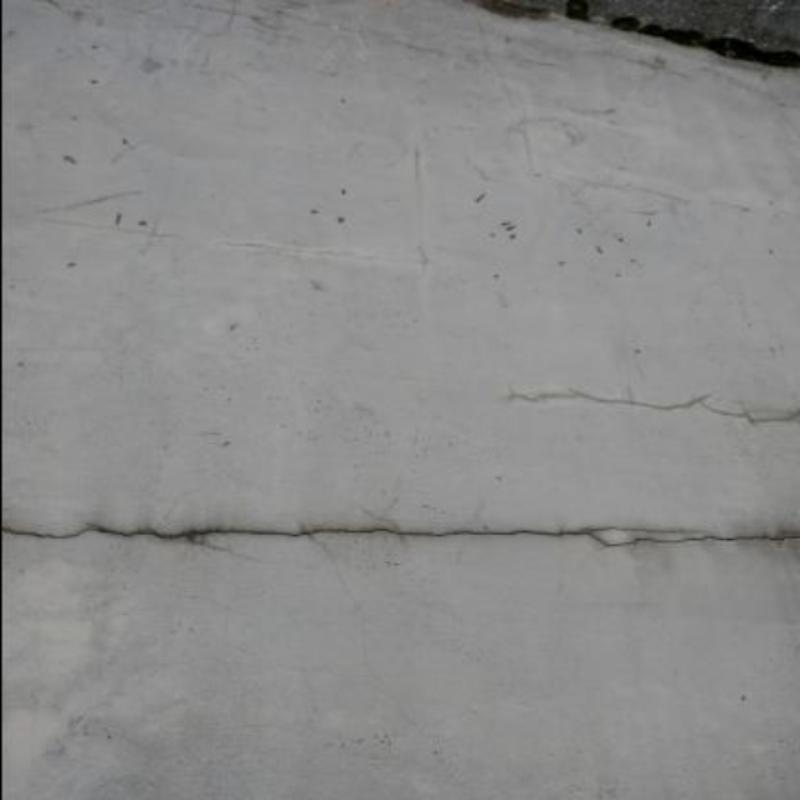pothole: (0, 525, 800, 550)
